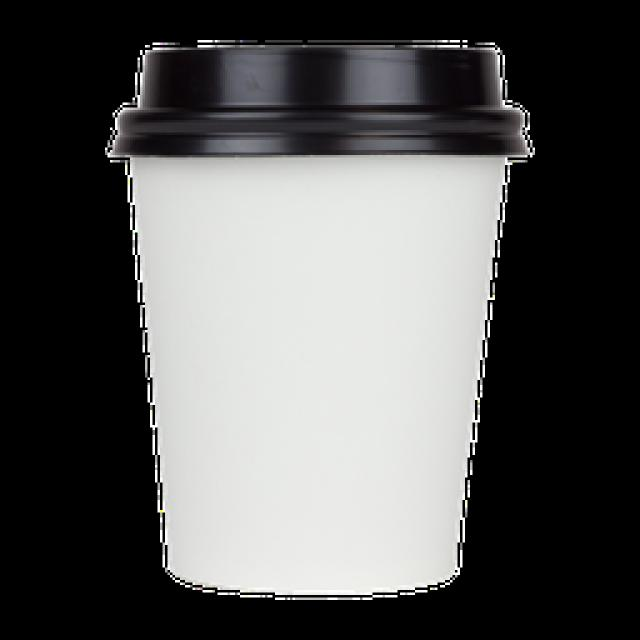paper_cups: (109, 38, 532, 601)
